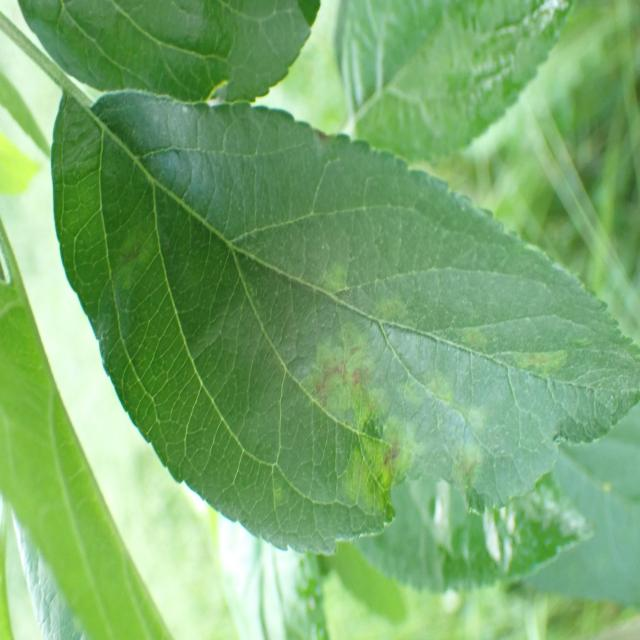scab: (138, 140, 606, 552)
